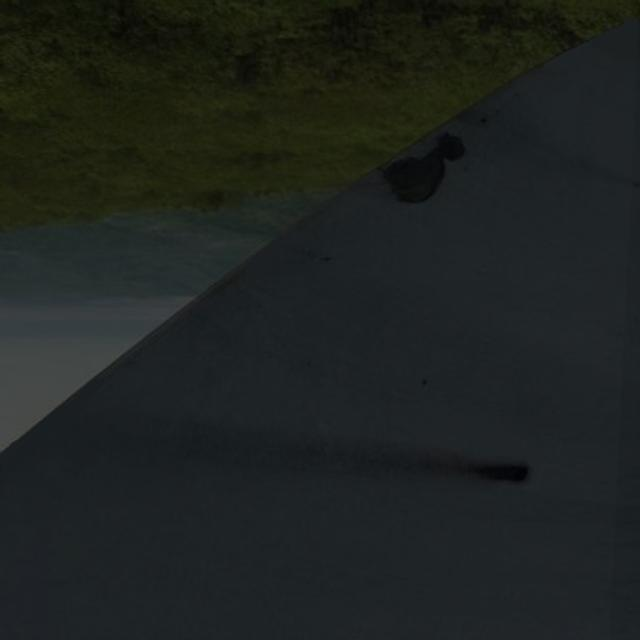crack: (431, 453, 533, 486)
surface_peeling: (380, 130, 471, 200)
